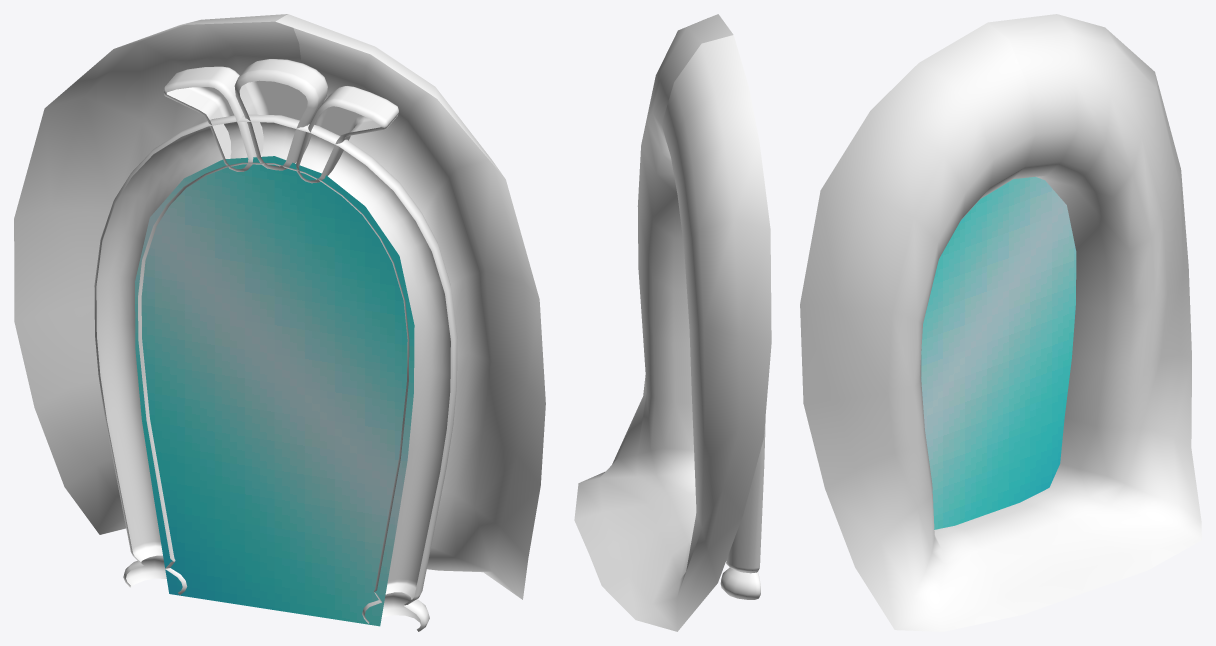
Rendered from Portal.fbx.
3 views of the same model, side by side, from view 1: azimuth 30°, elevation 25°; view 2: azimuth 150°, elevation 25°; view 3: azimuth 270°, elevation 25° (orthographic). The views are drawn at different scales.
Visible parts, largest first — view 1: m_wizard_portal_02, ms_pfx_Teleport_1, m_wizard_portal_01; view 2: ms_pfx_Teleport_1, m_wizard_portal_01; view 3: ms_pfx_Teleport_1, m_wizard_portal_02.
Part boxes in pixels (x1=…): m_wizard_portal_02: x1=135, y1=156, x2=414, y2=626; ms_pfx_Teleport_1: x1=14, y1=14, x2=545, y2=599; m_wizard_portal_01: x1=94, y1=59, x2=457, y2=631; ms_pfx_Teleport_1: x1=574, y1=14, x2=771, y2=631; m_wizard_portal_01: x1=720, y1=418, x2=765, y2=599; ms_pfx_Teleport_1: x1=800, y1=14, x2=1201, y2=631; m_wizard_portal_02: x1=921, y1=177, x2=1076, y2=529.
Bounding box in the file's own units: 1.4 × 2.2 × 1.53.
Materials: 3 (1 with a texture image).
